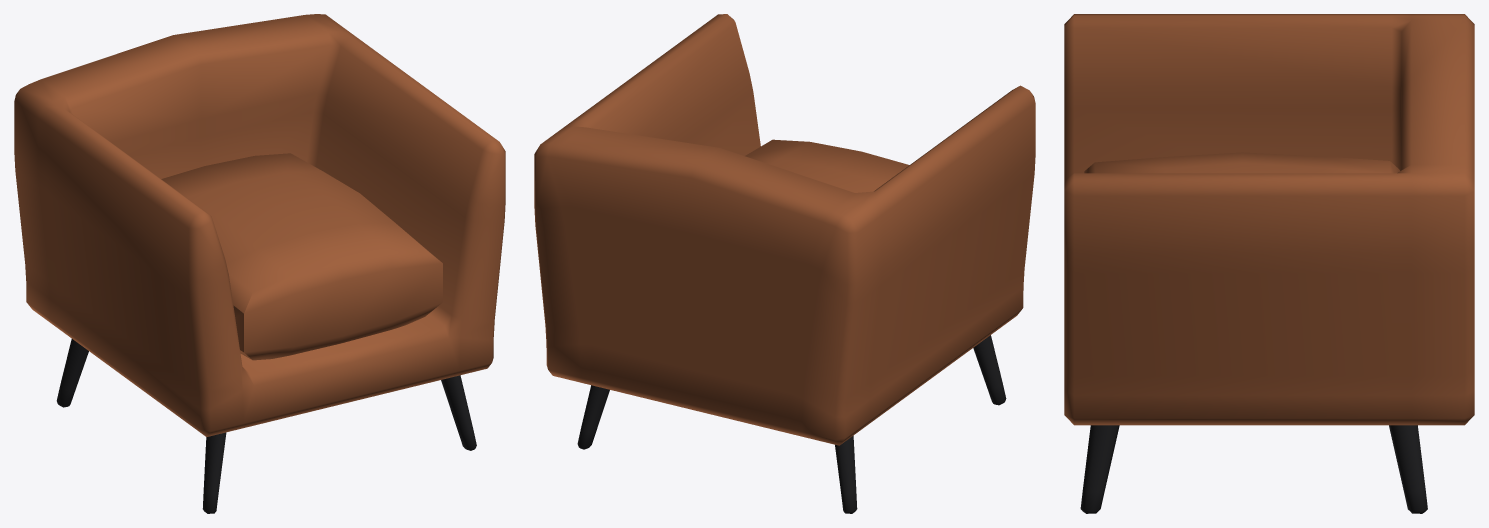
File: pk_accent_cognac.glb
3 renders of one model, left to right at view 1: azimuth 30°, elevation 25°; view 2: azimuth 150°, elevation 25°; view 3: azimuth 270°, elevation 25°, orthographic. The views are drawn at different scales.
Visible parts, largest first — view 1: pk_accent_cognac; view 2: pk_accent_cognac; view 3: pk_accent_cognac.
Part boxes in pixels (<box>): pk_accent_cognac: <box>14,14,505,513</box>; pk_accent_cognac: <box>534,14,1035,513</box>; pk_accent_cognac: <box>1064,14,1474,513</box>.
Bounding box in the file's own units: 0.82 × 0.8 × 0.82.
1 material, 1 textured.
